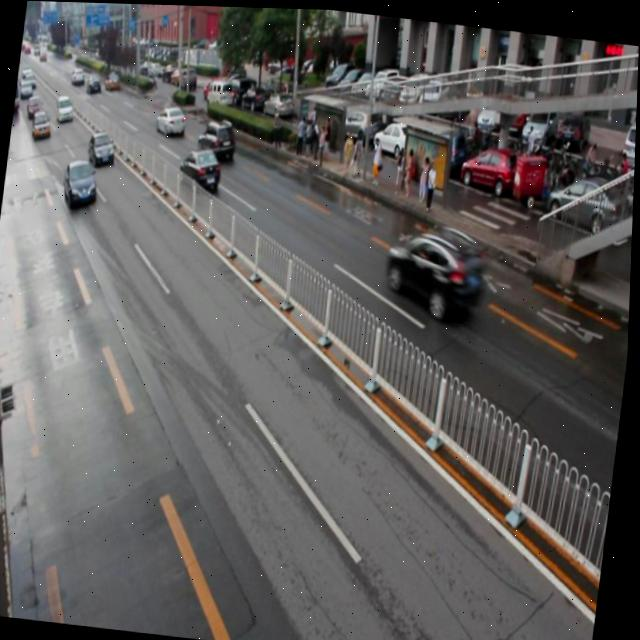car: (381, 218, 492, 321), (178, 143, 224, 190), (63, 156, 102, 208), (196, 116, 239, 161), (88, 129, 119, 168), (155, 104, 188, 137)
